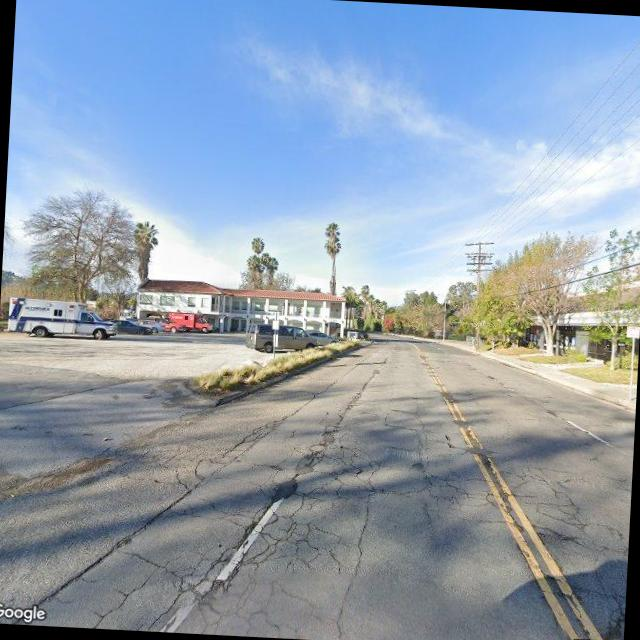crack: (21, 382, 619, 640)
